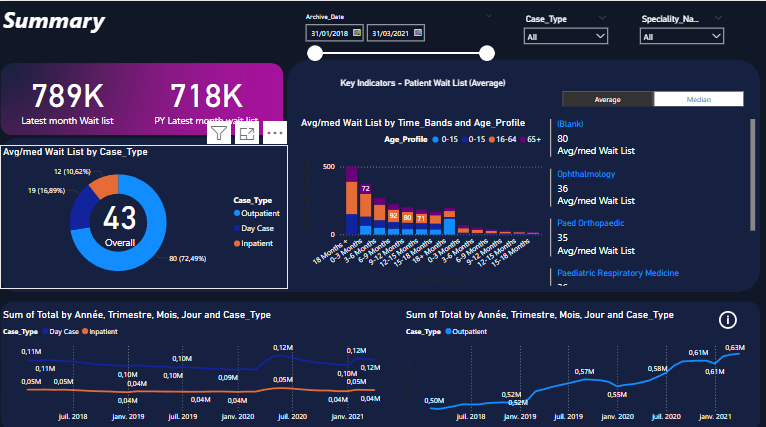

The dashboard page shown, as its layout file describes it:
{"tool":"powerbi","page":{"name":"Summary","canvas":[1280,720],"ordinal":0},"visuals":[{"type":"card","fields":{"Values":["All_Data.Latest month Wait list"]},"box":[0,96,224,128],"z":0},{"type":"card","fields":{"Values":["All_Data.PY Latest month wait list"]},"box":[224,96,240,128],"z":1000},{"type":"donutChart","fields":{"Category":["All_Data.Case_Type"],"Y":["All_Data.Avg/med Wait List"]},"box":[0,240,480,240],"z":2000},{"type":"slicer","fields":{"Values":["Calculation Method.Calc Methode"]},"box":[912,144,352,32],"z":3000},{"type":"columnChart","fields":{"Y":["All_Data.Avg/med Wait List"],"Category":["All_Data.Time_Bands"],"Series":["All_Data.Age_Profile"]},"box":[496.4,191.6,415.7,288],"z":4000},{"type":"multiRowCard","fields":{"Values":["All_Data.Specialty_Name","All_Data.Avg/med Wait List"]},"box":[912,192,352,288],"z":5000},{"type":"card","fields":{"Values":["All_Data.NodataLeft"]},"box":[54.2,578.3,539.8,130.1],"z":6000},{"type":"lineChart","fields":{"Y":["Sum(All_Data.Total)"],"Series":["All_Data.Case_Type"],"Category":["All_Data.Archive_Date.Variation.Hiérarchie de dates.Année","All_Data.Archive_Date.Variation.Hiérarchie de dates.Trimestre","All_Data.Archive_Date.Variation.Hiérarchie de dates.Mois","All_Data.Archive_Date.Variation.Hiérarchie de dates.Jour"]},"box":[0,512,656,208],"z":7000},{"type":"card","fields":{"Values":["All_Data.NodataRight"]},"box":[697.6,578.3,539.8,130.1],"z":8000},{"type":"lineChart","fields":{"Y":["Sum(All_Data.Total)"],"Series":["All_Data.Case_Type"],"Category":["All_Data.Archive_Date.Variation.Hiérarchie de dates.Année","All_Data.Archive_Date.Variation.Hiérarchie de dates.Trimestre","All_Data.Archive_Date.Variation.Hiérarchie de dates.Mois","All_Data.Archive_Date.Variation.Hiérarchie de dates.Jour"]},"box":[672,512,592,208],"z":9000},{"type":"slicer","fields":{"Values":["All_Data.Archive_Date"]},"box":[496.4,15.7,336.1,96.4],"z":10000},{"type":"slicer","fields":{"Values":["All_Data.Case_Type"]},"box":[864,16,160,96],"z":11000},{"type":"slicer","fields":{"Values":["All_Data.Speciality_Name"]},"box":[1056,16,160,80],"z":12000},{"type":"textbox","box":[0,0,448,96],"z":13000},{"type":"card","fields":{"Values":["All_Data.Avg/med Wait List"]},"box":[151.8,310.8,96.4,104.8],"z":14000},{"type":"card","fields":{"Values":["All_Data.Dynamic Title"]},"box":[496.4,97.6,415.7,79.5],"z":15000},{"type":"actionButton","box":[1194,512,43.4,39.8],"z":16000}]}

Visuals, with their boxes in screenshot pixels (x1, y1, x2, y2), scaled from the page's 1280x720 canvas onto the 766x427 screenshot:
card - All_Data.Latest month Wait list: [left=0, top=57, right=134, bottom=133]
card - All_Data.PY Latest month wait list: [left=134, top=57, right=278, bottom=133]
donutChart - All_Data.Case_Type x All_Data.Avg/med Wait List: [left=0, top=142, right=287, bottom=285]
slicer - Calculation Method.Calc Methode: [left=546, top=85, right=756, bottom=104]
columnChart - All_Data.Avg/med Wait List x All_Data.Time_Bands: [left=297, top=114, right=546, bottom=284]
multiRowCard - All_Data.Specialty_Name x All_Data.Avg/med Wait List: [left=546, top=114, right=756, bottom=285]
card - All_Data.NodataLeft: [left=32, top=343, right=355, bottom=420]
lineChart - Sum(All_Data.Total) x All_Data.Case_Type: [left=0, top=304, right=393, bottom=426]
card - All_Data.NodataRight: [left=417, top=343, right=741, bottom=420]
lineChart - Sum(All_Data.Total) x All_Data.Case_Type: [left=402, top=304, right=756, bottom=426]
slicer - All_Data.Archive_Date: [left=297, top=9, right=498, bottom=66]
slicer - All_Data.Case_Type: [left=517, top=9, right=613, bottom=66]
slicer - All_Data.Speciality_Name: [left=632, top=9, right=728, bottom=57]
textbox: [left=0, top=0, right=268, bottom=57]
card - All_Data.Avg/med Wait List: [left=91, top=184, right=149, bottom=246]
card - All_Data.Dynamic Title: [left=297, top=58, right=546, bottom=105]
actionButton: [left=715, top=304, right=741, bottom=327]
